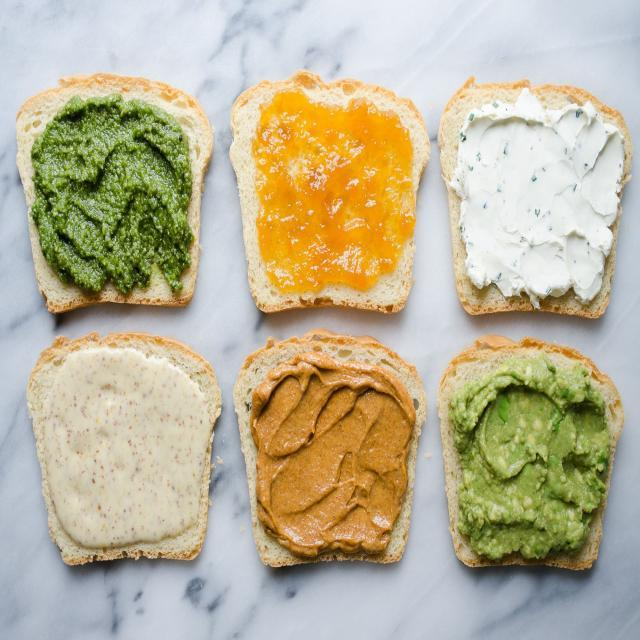Spread: (452, 95, 625, 309), (251, 351, 418, 557), (450, 355, 612, 565), (253, 91, 417, 297), (42, 348, 210, 546), (30, 96, 192, 298)
